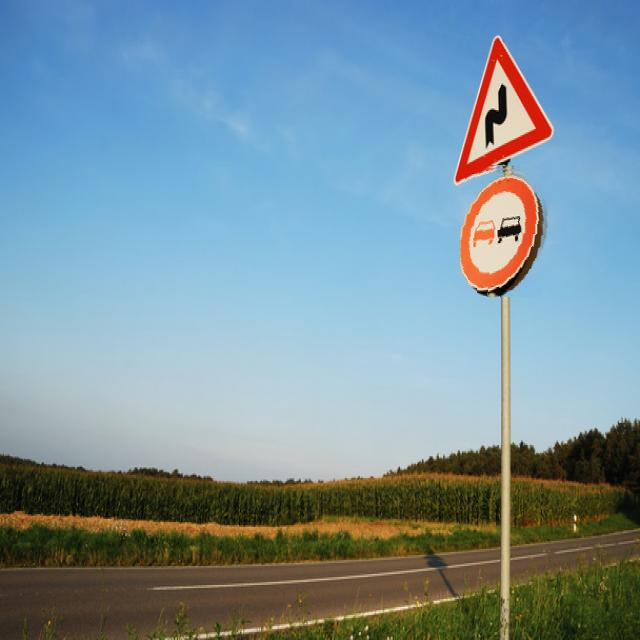no overtaking: (460, 165, 551, 297)
